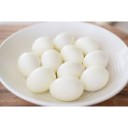begg: (82, 67, 109, 90), (29, 68, 52, 92), (33, 37, 54, 54), (62, 45, 84, 61)
